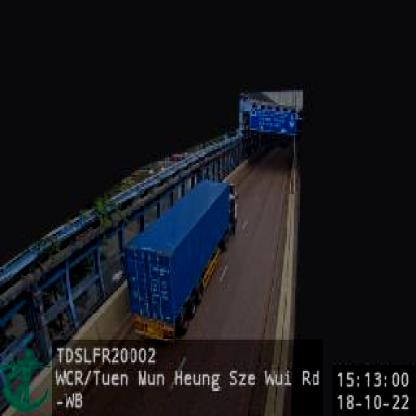Truck: (123, 182, 237, 339)
